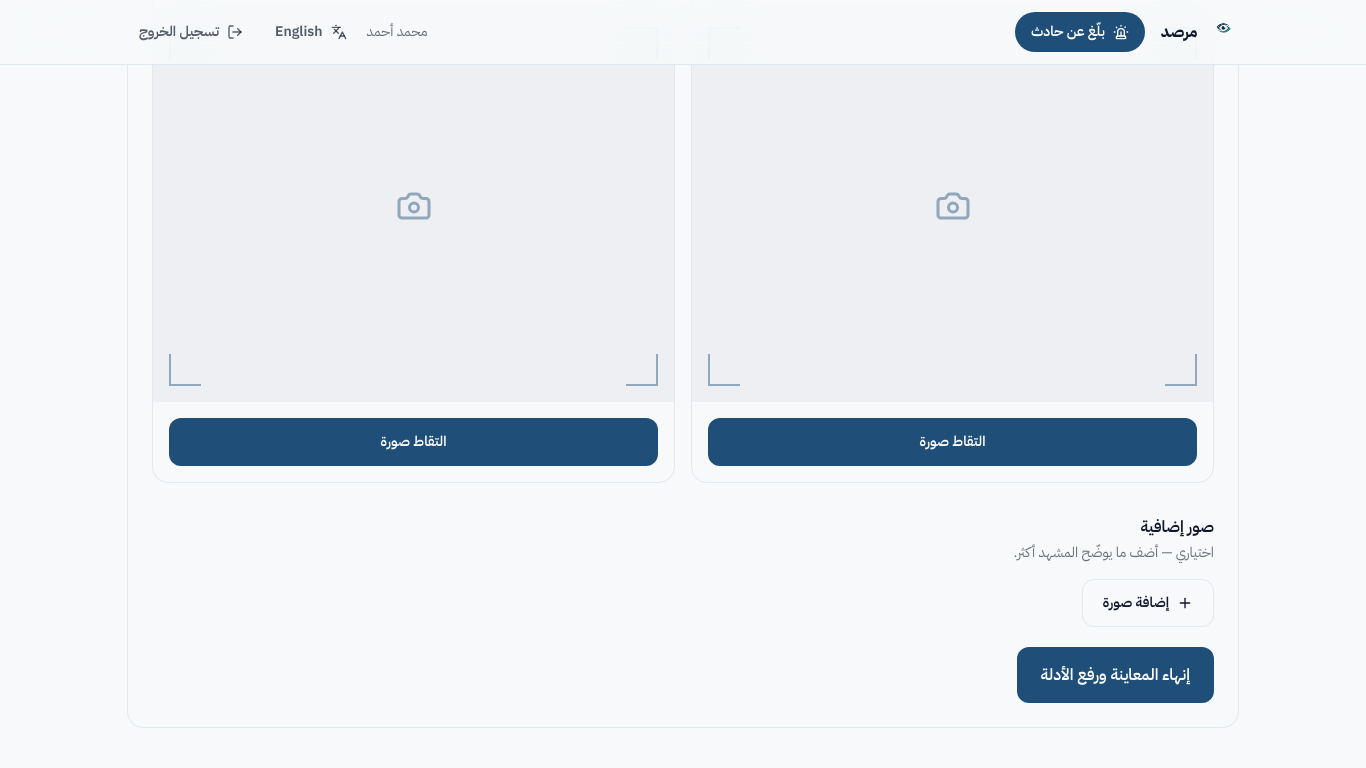
it: on-scene and completion › blocks completion until the four guided photos are taken
(page scrolled)
Click the button "إنهاء المعاينة ورفع الأدلة": {"x": 1115, "y": 674} [1017,646,1214,702]
(page scrolled)
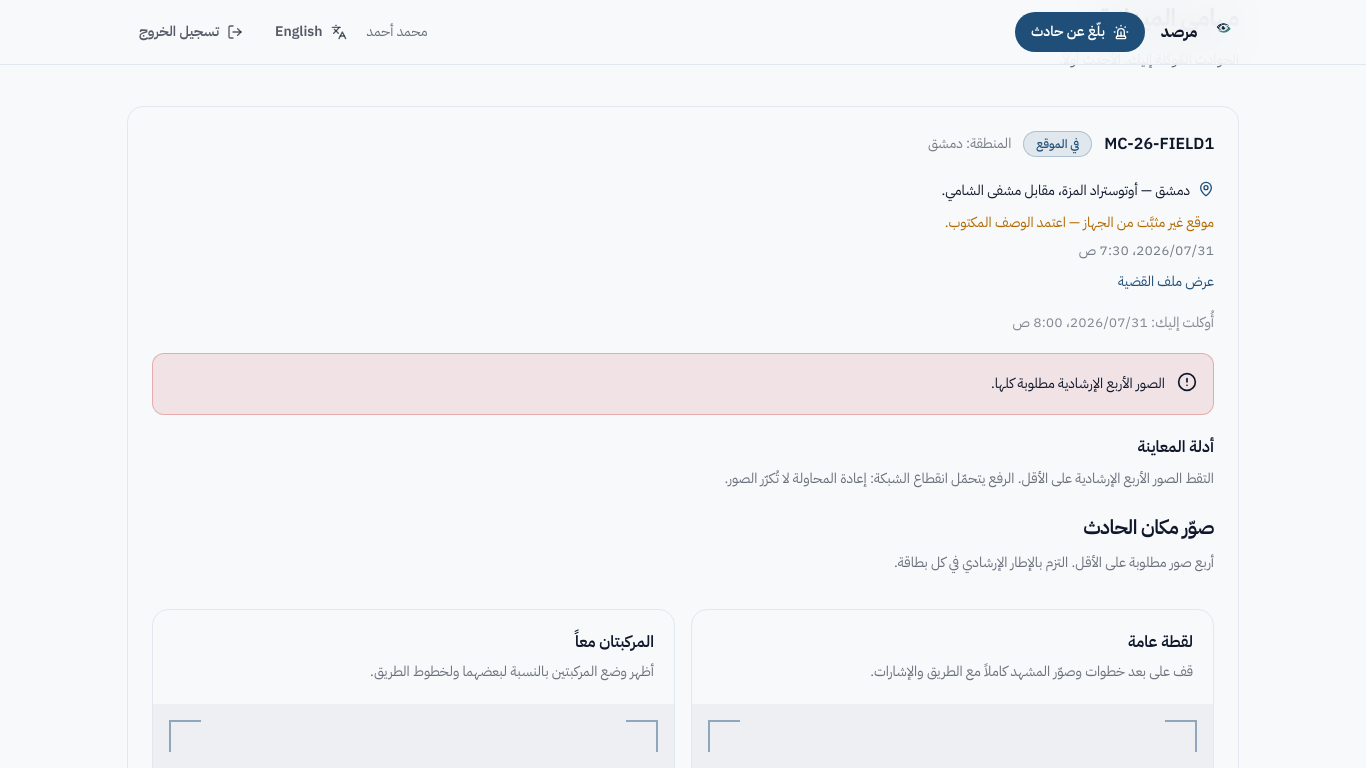
Result: the text "الصور الأربع الإرشادية مطلوبة كلها." is shown at [991,370,1165,398]
